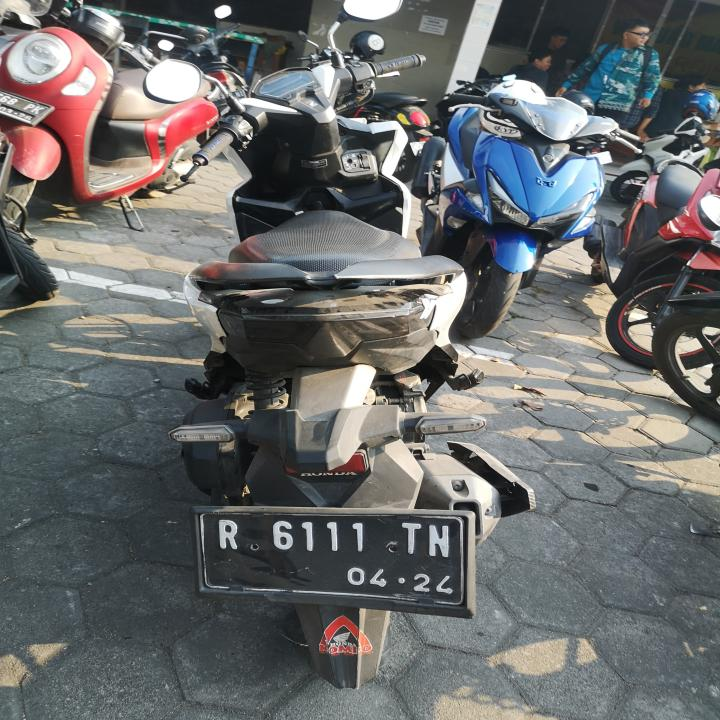plate: (191, 496, 476, 618)
